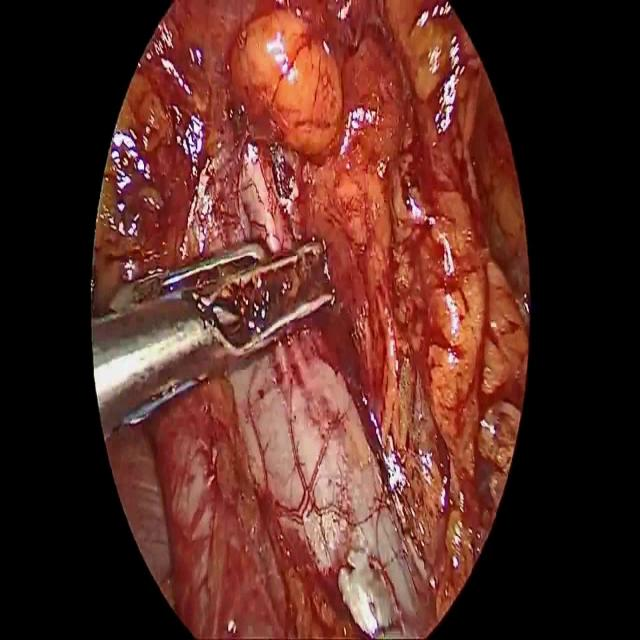surgical-area: (90, 0, 530, 639)
surgical-tool: (90, 239, 336, 442)
